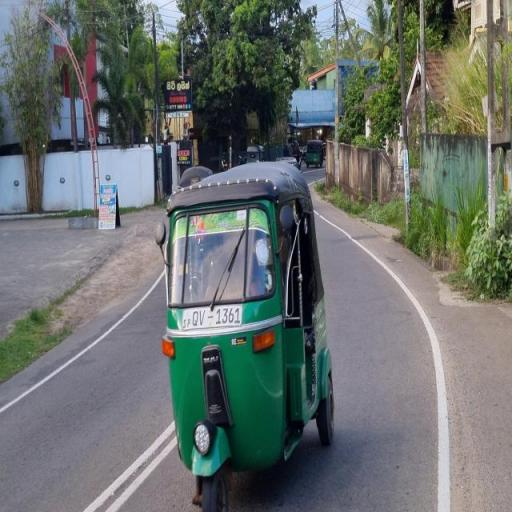double_white_line: (1, 266, 164, 414), (82, 419, 174, 510)
